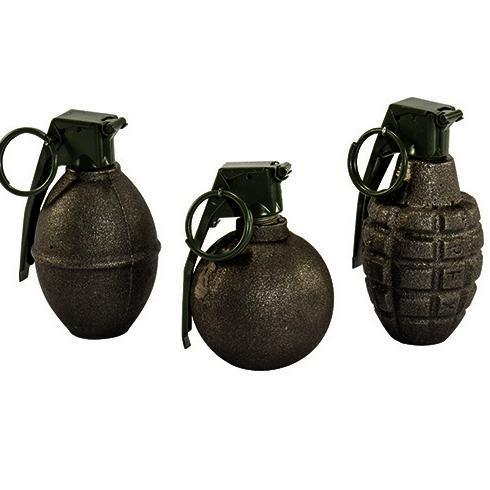Grenade: (0, 112, 163, 341), (348, 98, 486, 348), (182, 163, 335, 371)
